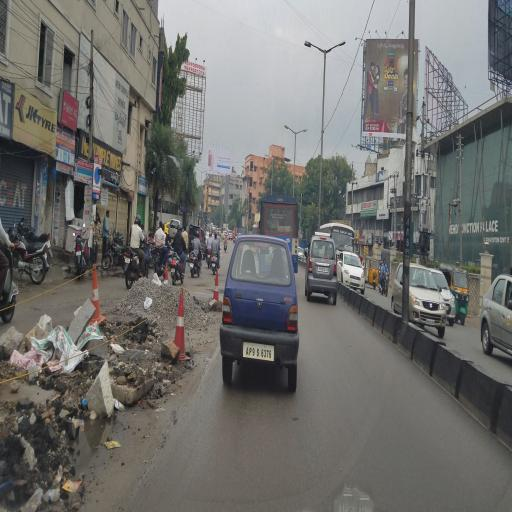street_light_0: (322, 30, 355, 58), (294, 32, 326, 60), (293, 120, 313, 146), (275, 119, 295, 145)
